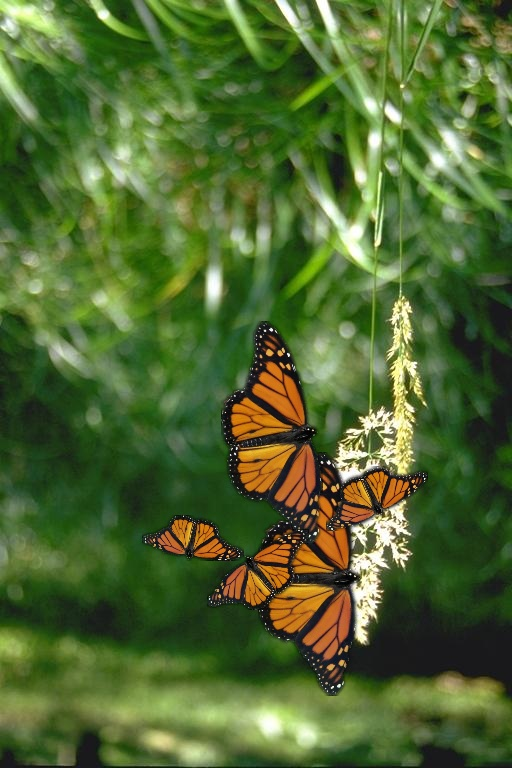danaus_plexippus: (258, 452, 360, 696), (221, 321, 323, 544), (207, 529, 309, 610), (326, 466, 428, 531), (142, 515, 244, 561)
